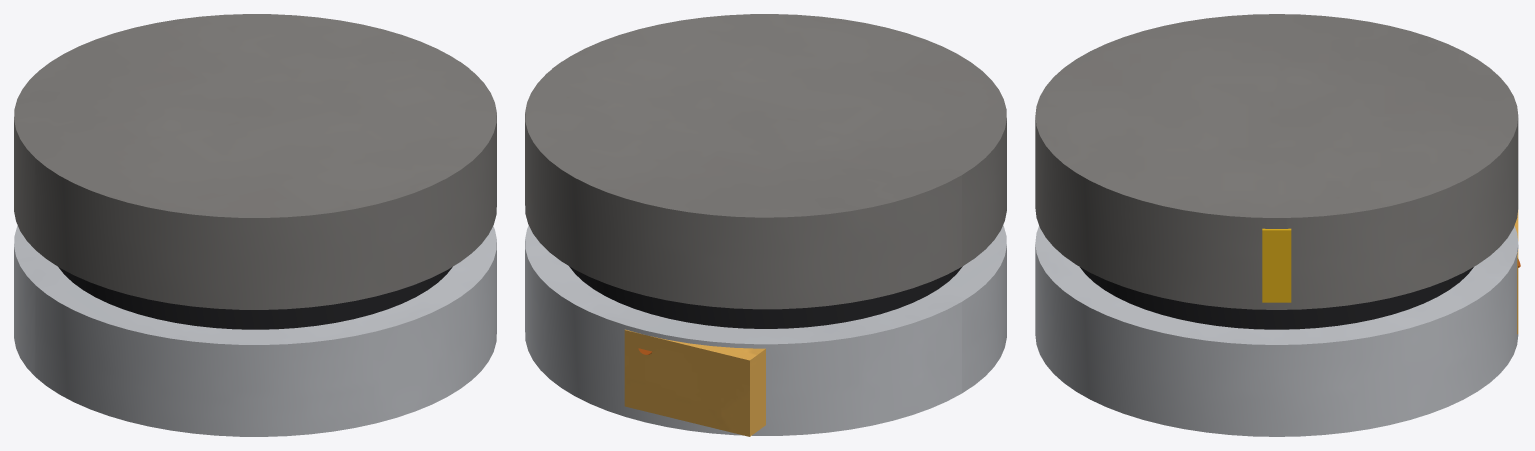
The model's file is robo01_rotor_xs.glb.
The picture shows the model from 3 angles, left to right: view 1: azimuth 30°, elevation 25°; view 2: azimuth 150°, elevation 25°; view 3: azimuth 270°, elevation 25°; orthographic projection.
Visible parts, largest first — view 1: half_b_rotor, base, bearing; view 2: half_b_rotor, base, drive, bearing; view 3: half_b_rotor, base, bearing, half_b_mark.
Part boxes in pixels (<box>): half_b_rotor: <box>14,14,496,309</box>; base: <box>14,225,496,436</box>; bearing: <box>58,267,452,329</box>; half_b_rotor: <box>525,14,1006,309</box>; base: <box>525,225,1006,435</box>; drive: <box>624,329,765,436</box>; bearing: <box>569,266,962,328</box>; half_b_rotor: <box>1035,14,1518,309</box>; base: <box>1035,226,1518,436</box>; bearing: <box>1080,267,1473,329</box>; half_b_mark: <box>1262,228,1291,302</box>.
Size of the model in its own units: 0.302 by 0.15 by 0.3014.
Materials: 6 (3 with a texture image).
